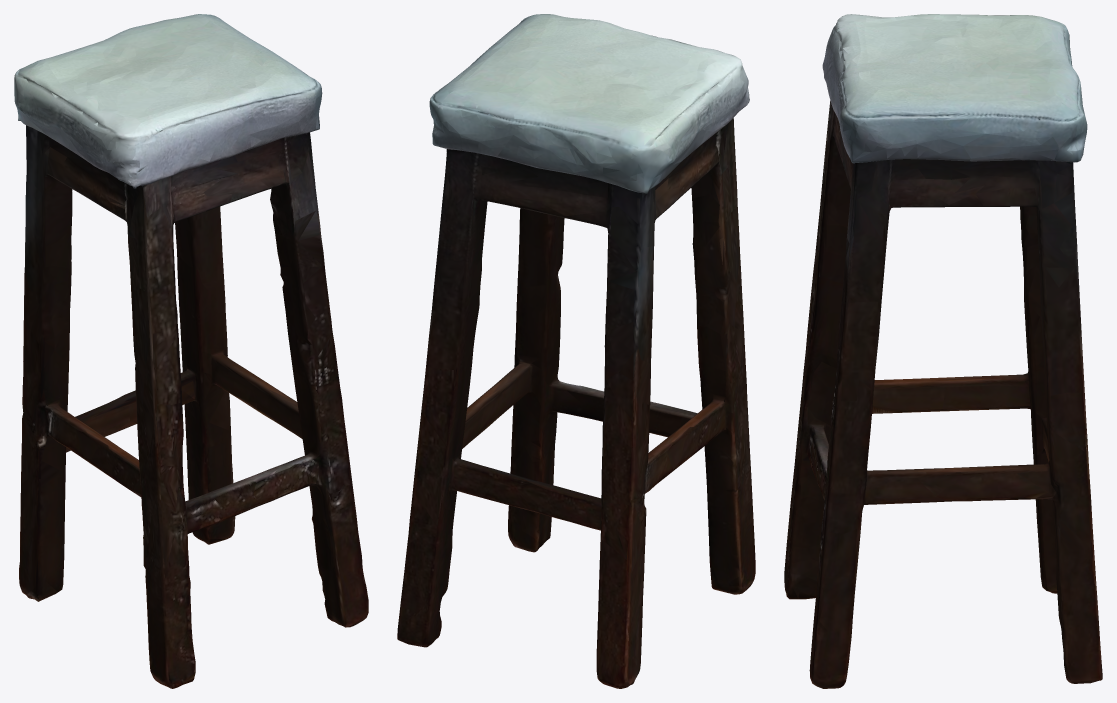
The model's file is taburete.fbx.
3 views of the same model, side by side, from view 1: azimuth 30°, elevation 25°; view 2: azimuth 150°, elevation 25°; view 3: azimuth 270°, elevation 25° (orthographic). The views are drawn at different scales.
Parts seen in each view (by area): view 1: tripo_node_a55fc92a; view 2: tripo_node_a55fc92a; view 3: tripo_node_a55fc92a.
Boxes of the visible parts, x1,y1,x2,y2 form: tripo_node_a55fc92a: (14,14,368,688); tripo_node_a55fc92a: (397,14,755,688); tripo_node_a55fc92a: (784,14,1102,688).
Size of the model in its own units: 46.44 by 97.86 by 49.08.
